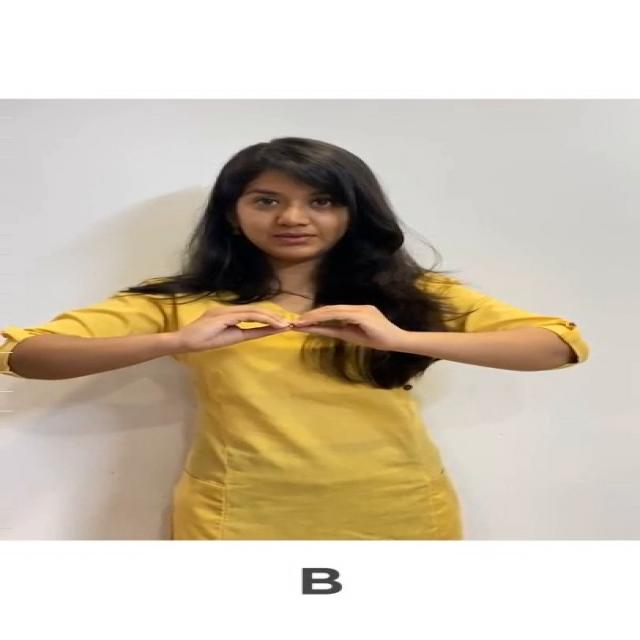B: (162, 291, 424, 359)
